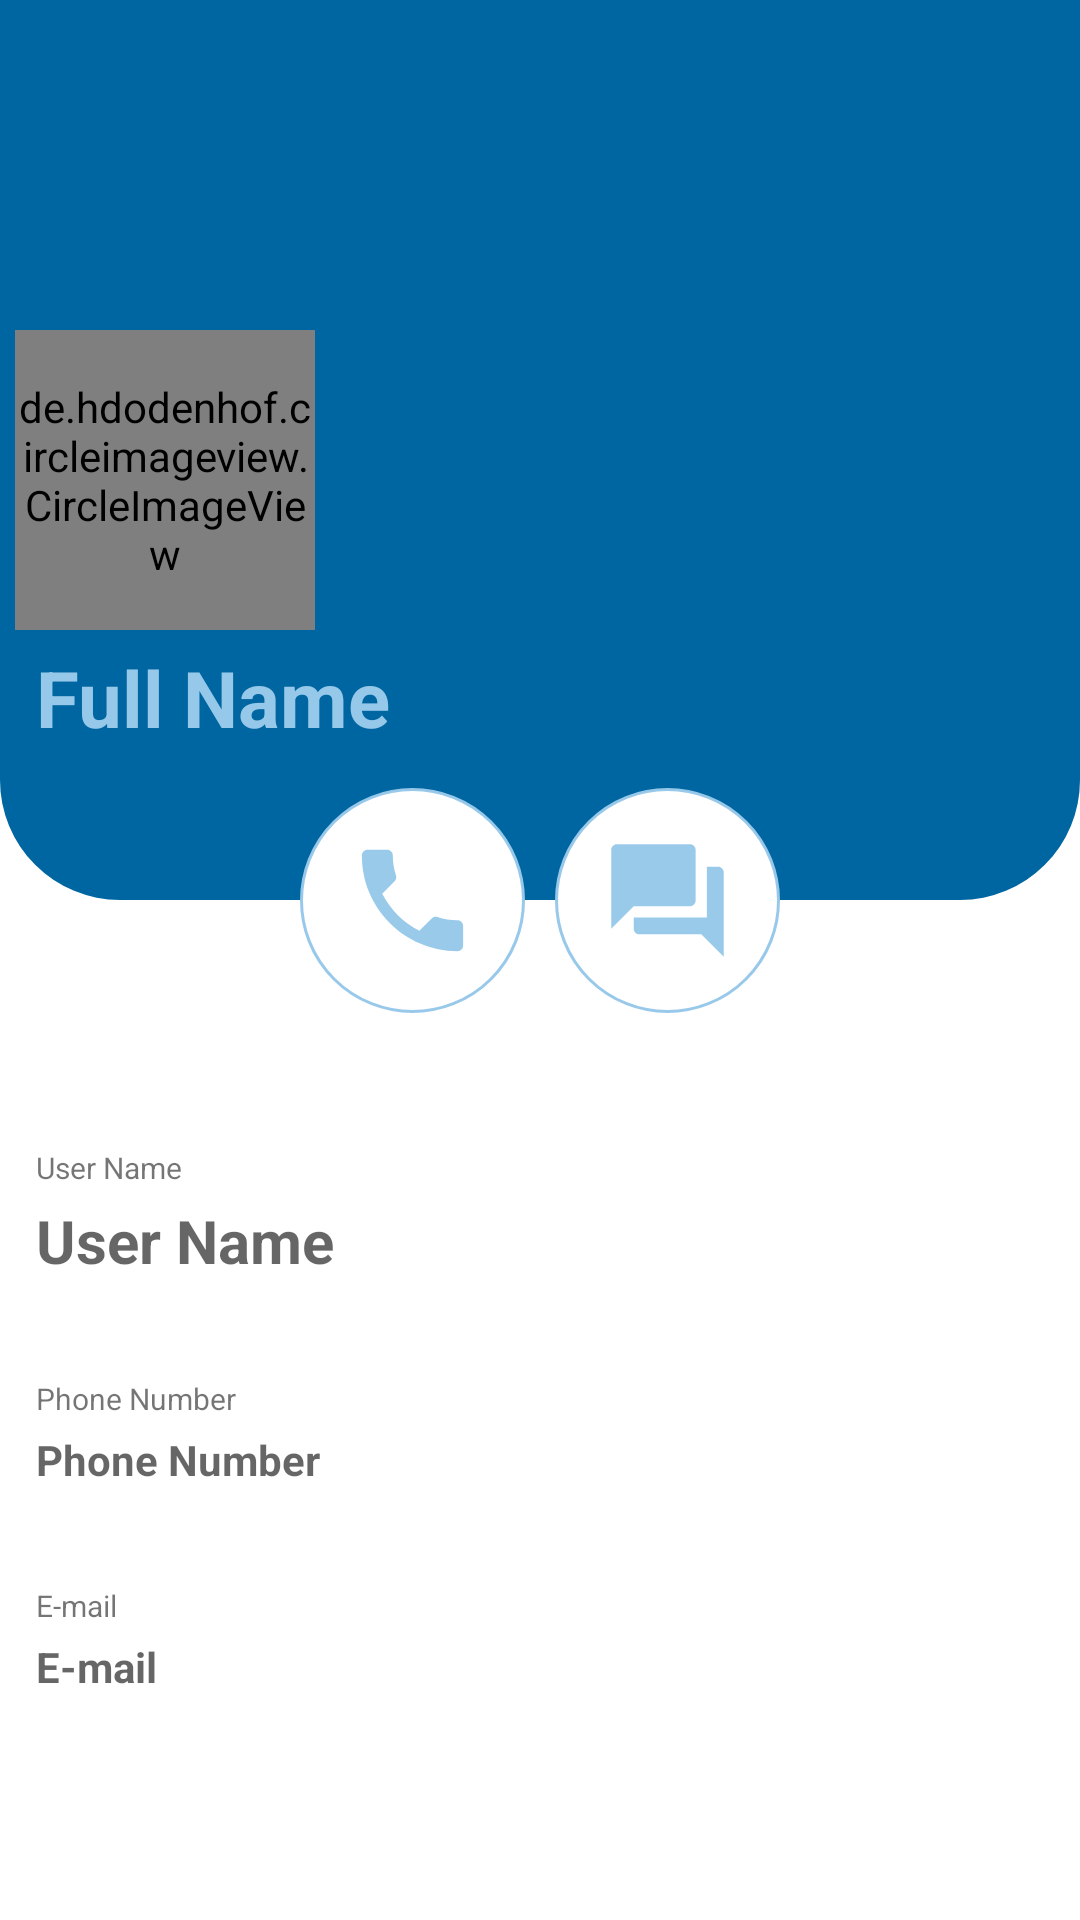

Screen size 1080 x 1920. Icon name, then its center in pixels as point (x, y):
chatting: point (667, 900)
phone: point (412, 900)
